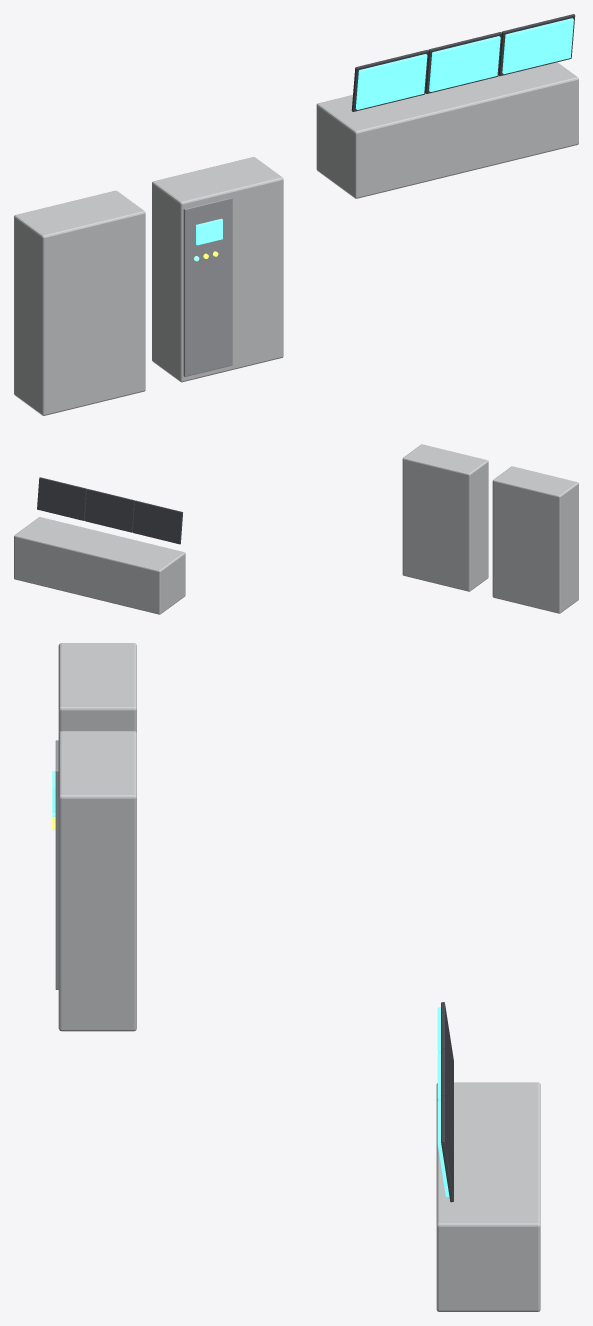
The model's file is cell_0_0_lod0.glb.
3 renders of one model, top to bottom at view 1: azimuth 30°, elevation 25°; view 2: azimuth 150°, elevation 25°; view 3: azimuth 270°, elevation 25°, orthographic. The views are drawn at different scales.
Visible parts, largest first — view 1: P_EQ_cabinet_01__cabinet, P_EQ_console_01__desk, P_EQ_cabinet_02__cabinet, P_EQ_cabinet_02__door, P_EQ_console_01__screen_0, P_EQ_console_01__screen_1, P_EQ_console_01__screen_2, P_EQ_console_01__bezel_0, P_EQ_console_01__bezel_2, P_EQ_console_01__bezel_1, P_EQ_cabinet_02__hmi; view 2: P_EQ_cabinet_02__cabinet, P_EQ_cabinet_01__cabinet, P_EQ_console_01__desk, P_EQ_console_01__bezel_2, P_EQ_console_01__bezel_0, P_EQ_console_01__bezel_1; view 3: P_EQ_cabinet_02__cabinet, P_EQ_console_01__desk, P_EQ_cabinet_01__cabinet, P_EQ_cabinet_02__door, P_EQ_console_01__bezel_2.
Boxes of the visible parts, x1,y1,x2,y2 form: P_EQ_cabinet_01__cabinet: (14,190,145,415); P_EQ_console_01__desk: (316,62,578,198); P_EQ_cabinet_02__cabinet: (152,157,283,382); P_EQ_cabinet_02__door: (183,197,232,376); P_EQ_console_01__screen_0: (355,54,427,109); P_EQ_console_01__screen_1: (429,36,500,91); P_EQ_console_01__screen_2: (502,18,573,74); P_EQ_console_01__bezel_0: (351,50,428,111); P_EQ_console_01__bezel_2: (498,14,575,76); P_EQ_console_01__bezel_1: (425,32,501,93); P_EQ_cabinet_02__hmi: (196,218,222,245); P_EQ_cabinet_02__cabinet: (402,444,488,591); P_EQ_cabinet_01__cabinet: (492,466,578,613); P_EQ_console_01__desk: (14,517,185,614); P_EQ_console_01__bezel_2: (37,477,87,520); P_EQ_console_01__bezel_0: (133,500,182,544); P_EQ_console_01__bezel_1: (85,489,135,532); P_EQ_cabinet_02__cabinet: (58,731,136,1031); P_EQ_console_01__desk: (436,1082,540,1311); P_EQ_cabinet_01__cabinet: (58,643,136,732); P_EQ_cabinet_02__door: (55,740,58,989); P_EQ_console_01__bezel_2: (441,1095,453,1202).
Size of the model in its own units: 7.9 by 2 by 3.75.
